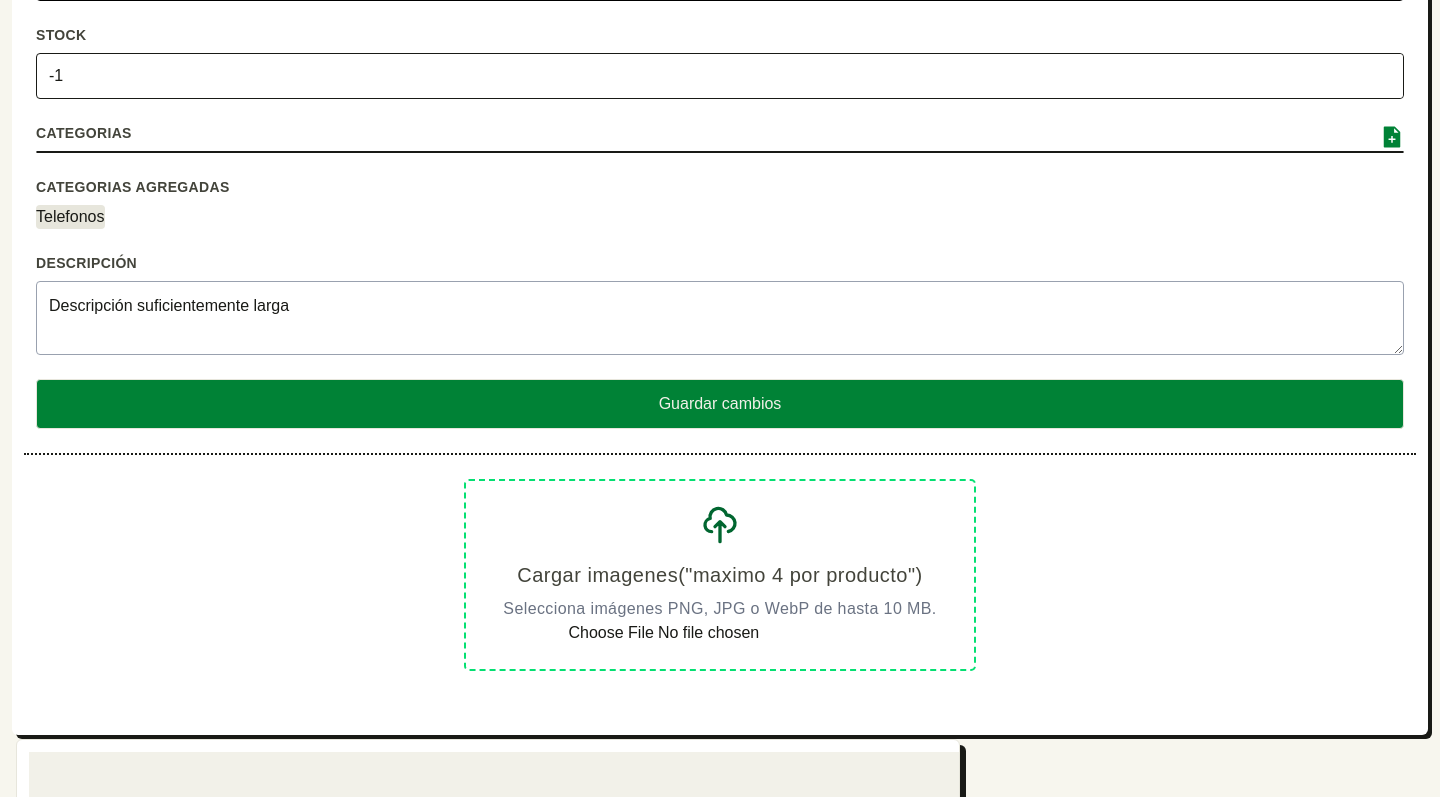
Test case: editor compartido › rechaza inventarios negativos y conserva el borrador
(page scrolled)
Step 1. Click the button "Guardar cambios" → (720, 404), box [36, 379, 1404, 429]
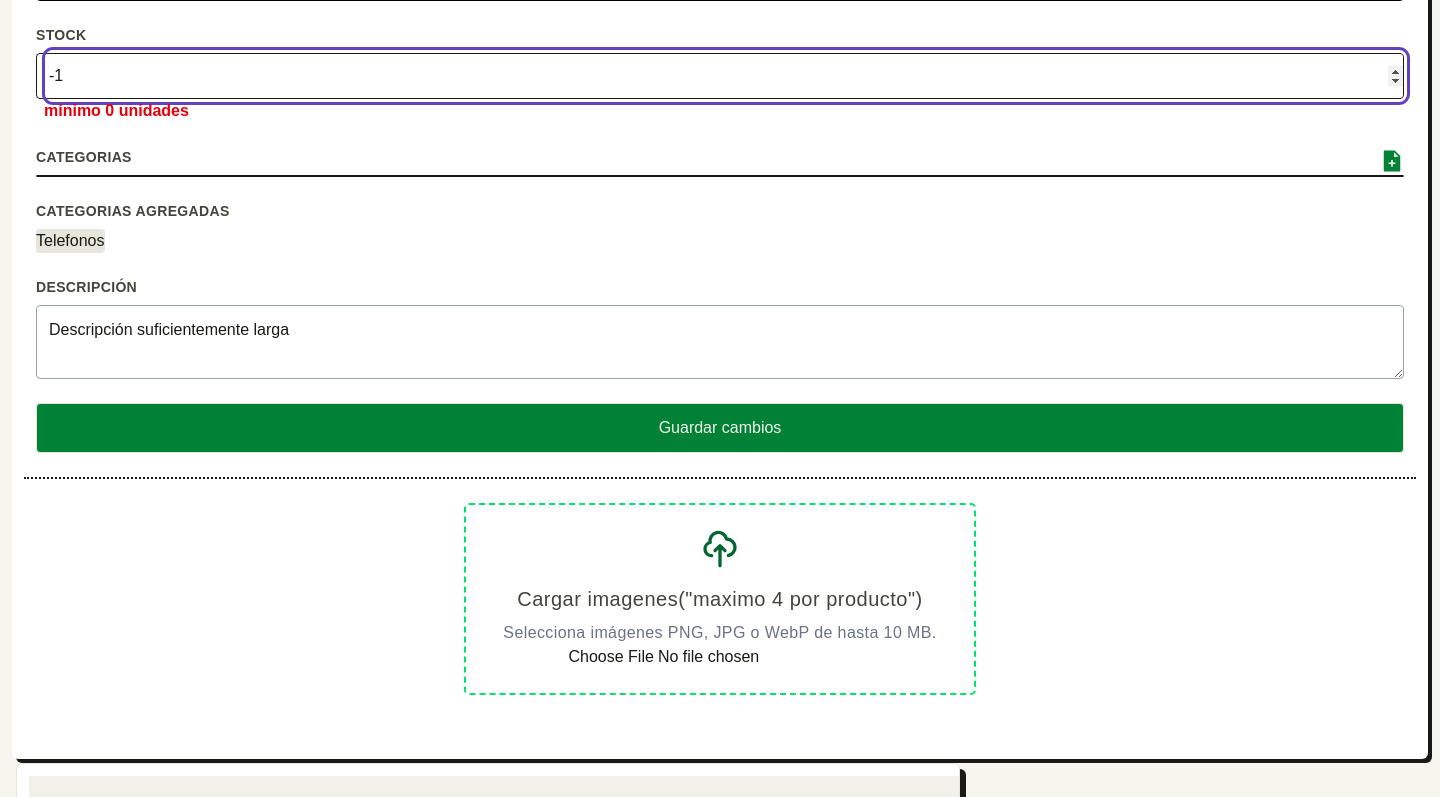
Result: the text "mínimo 0 unidades" is shown at [44, 102, 189, 119]
